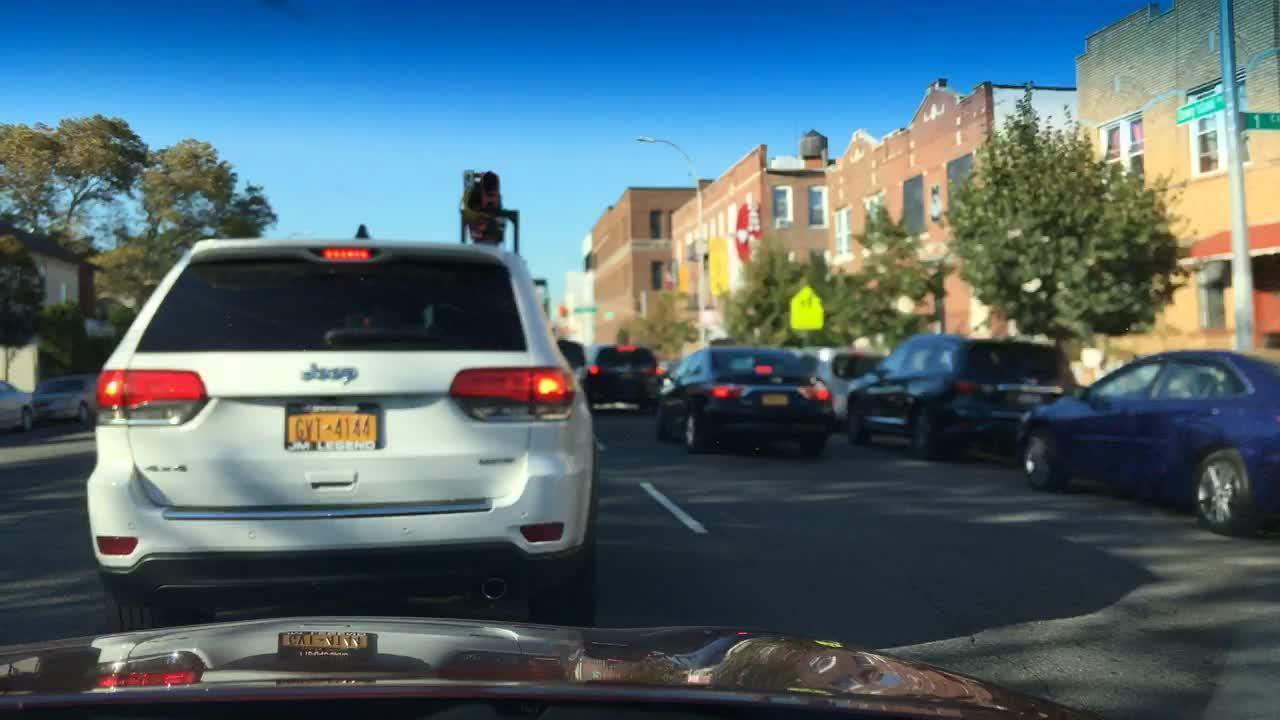jeep: (289, 354, 377, 388)
